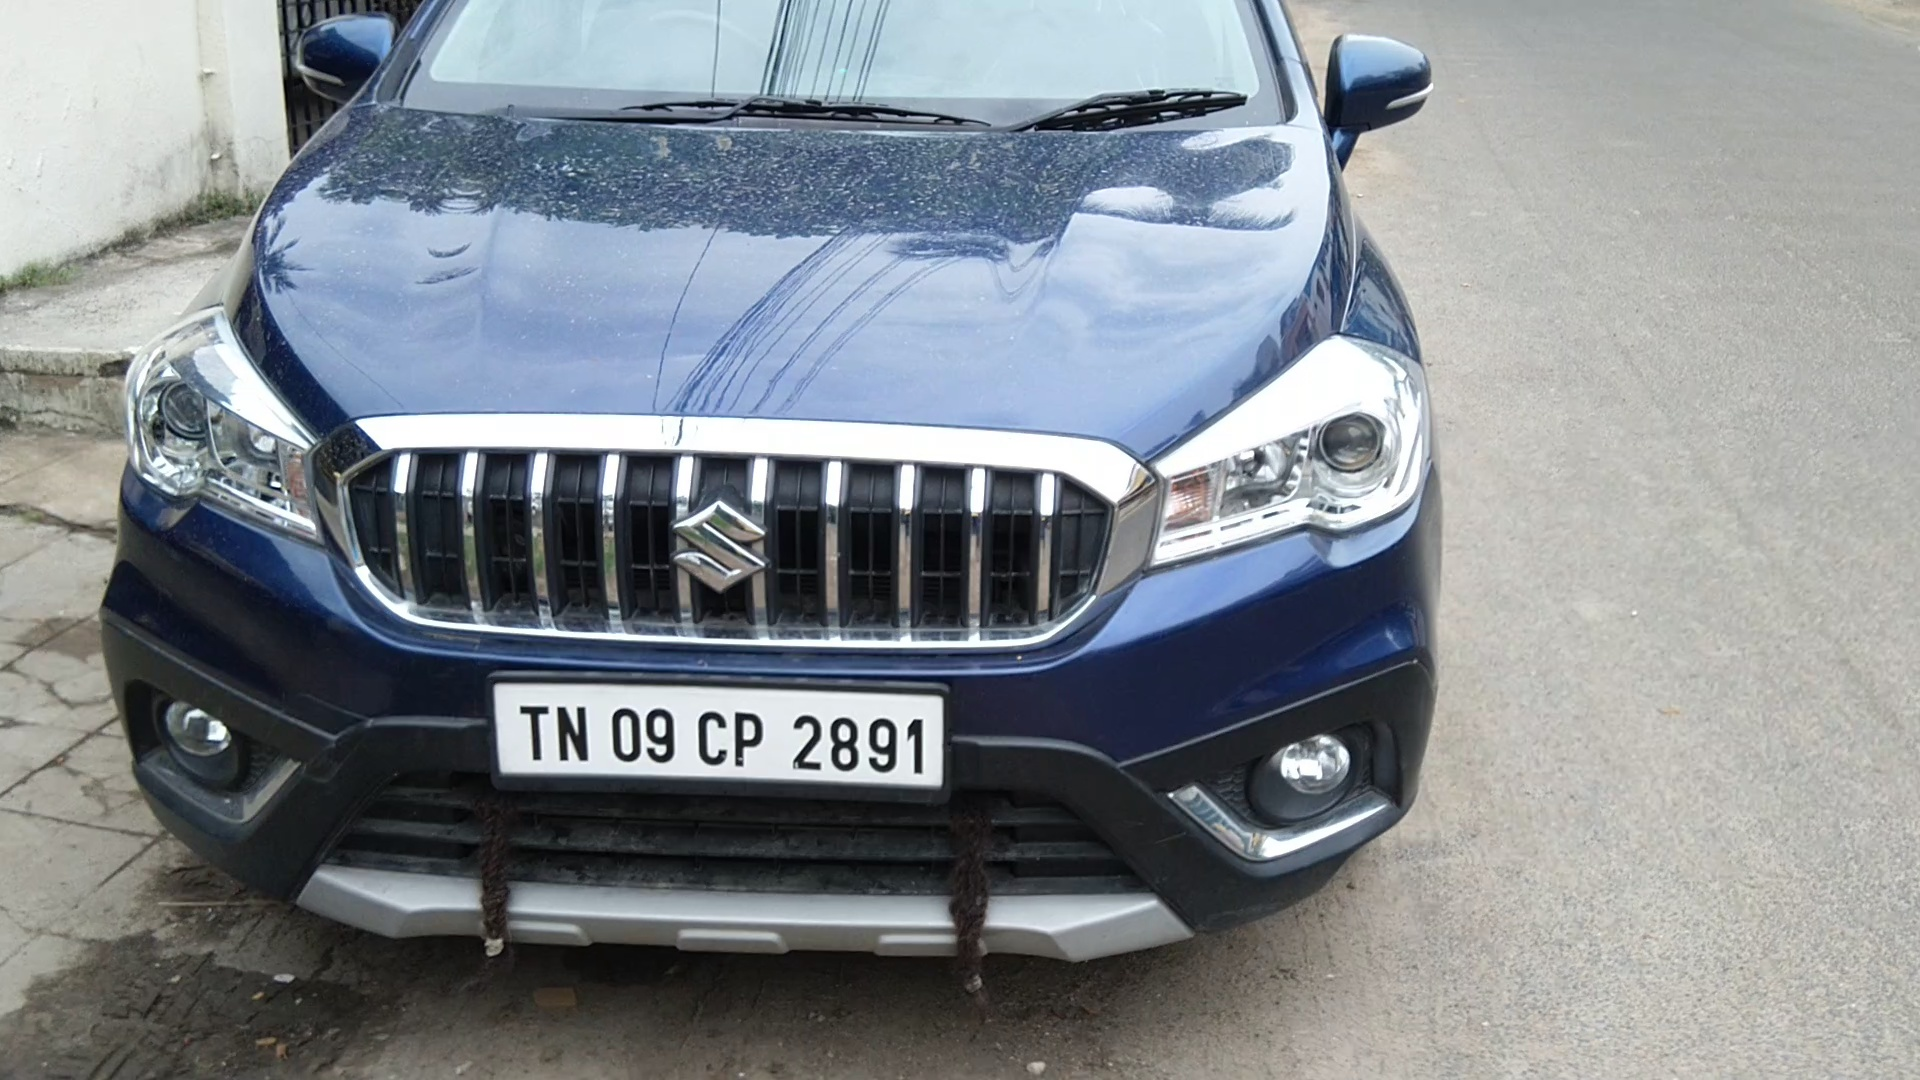front_grill: (316, 411, 1147, 673)
headlamp: (1147, 334, 1435, 571), (129, 295, 316, 549)
ovr_mirror: (1323, 16, 1441, 152), (285, 5, 400, 119)
